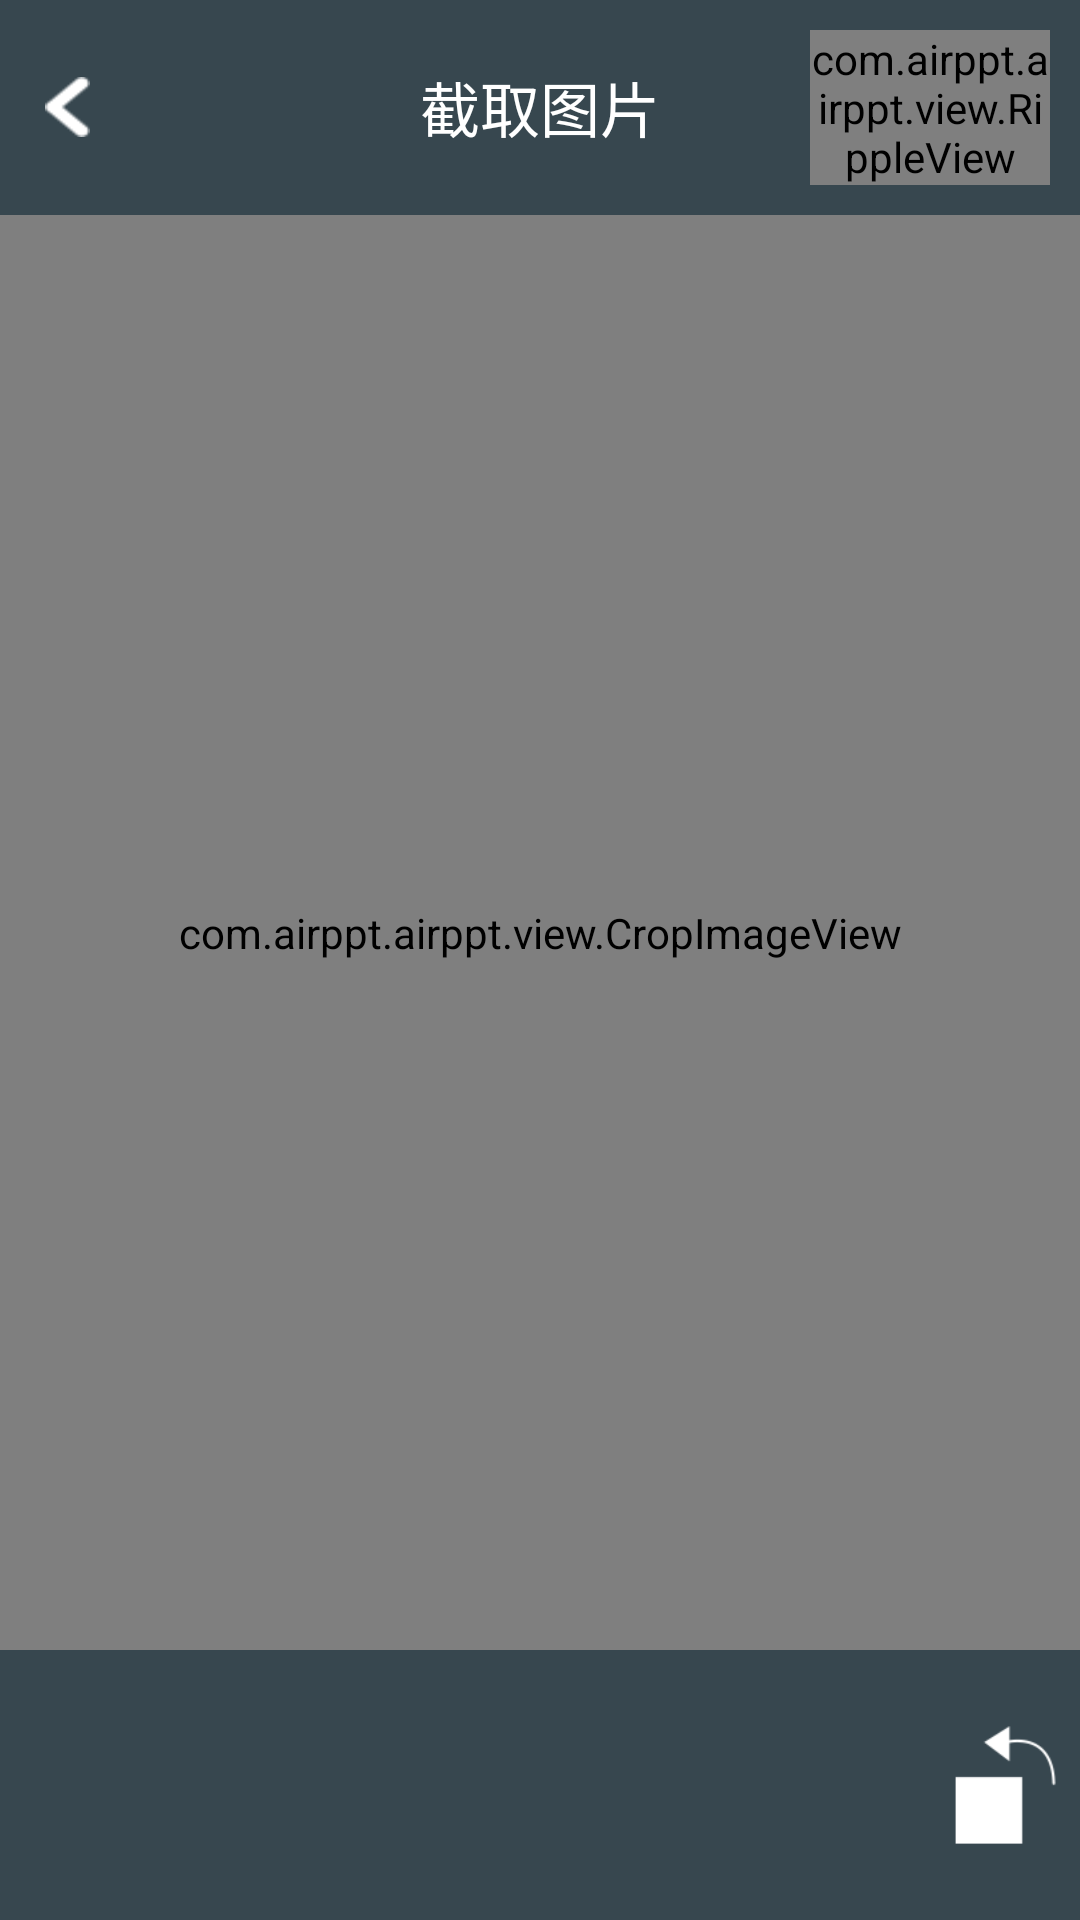

Where icons sit on this 1080 × 1920 app screen, as (x1, y1, x2, y2):
resizeview rotate: (955, 1726, 1056, 1844)
